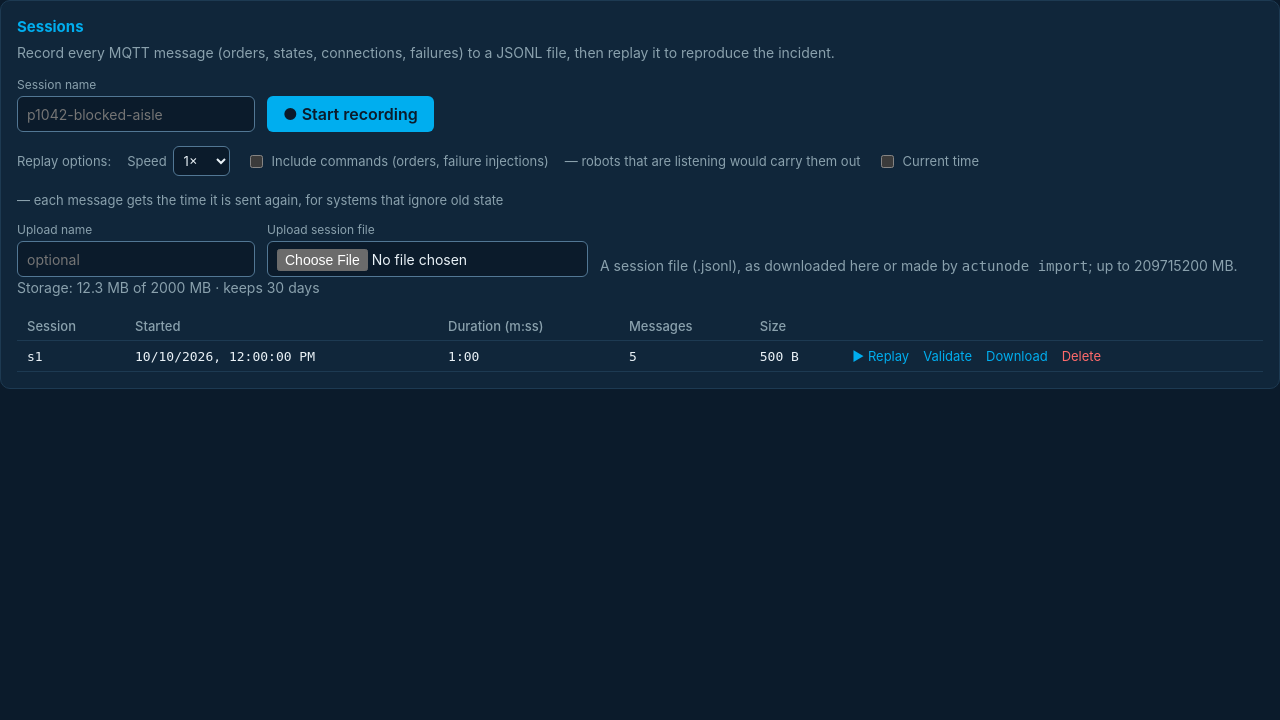
sessions: validate, upload, storage (D-40, D-41) › notes truncation
Click the button with aria-label "Validate session s1" at (948, 356), box [923,348,972,364]
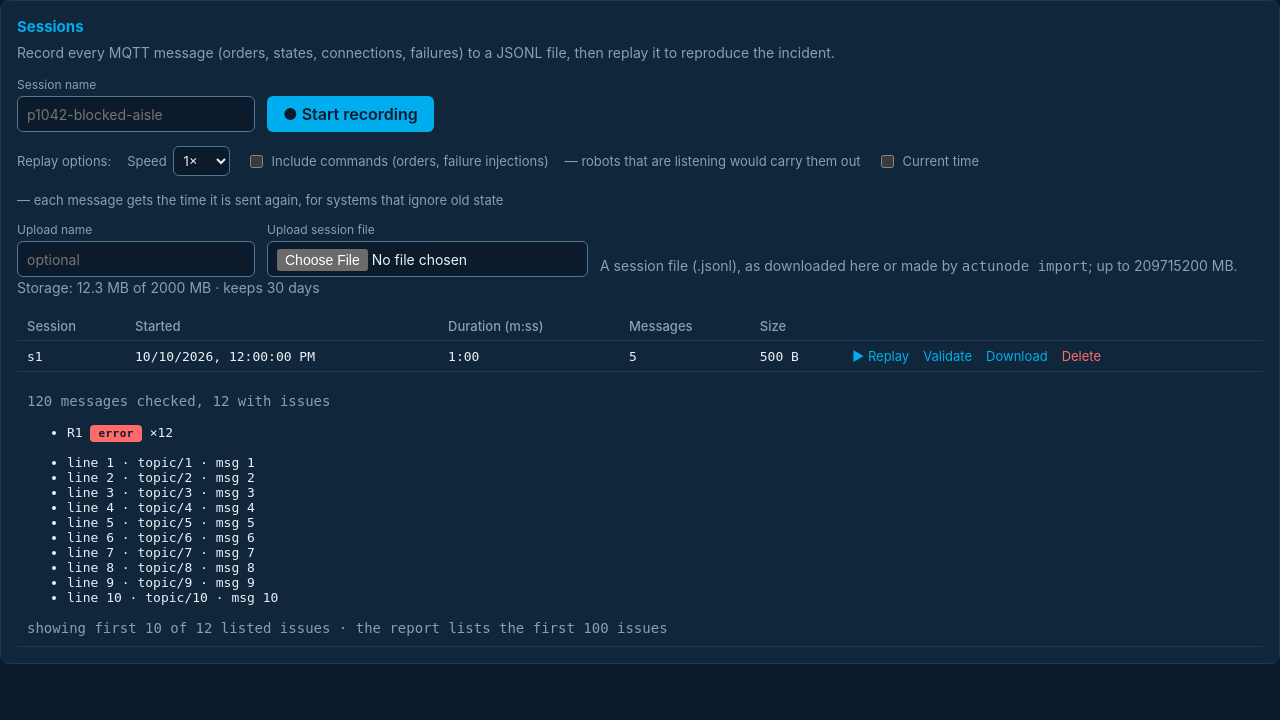
Now the text "the report lists the first 100 issues" is shown, box [27,620,668,636]
